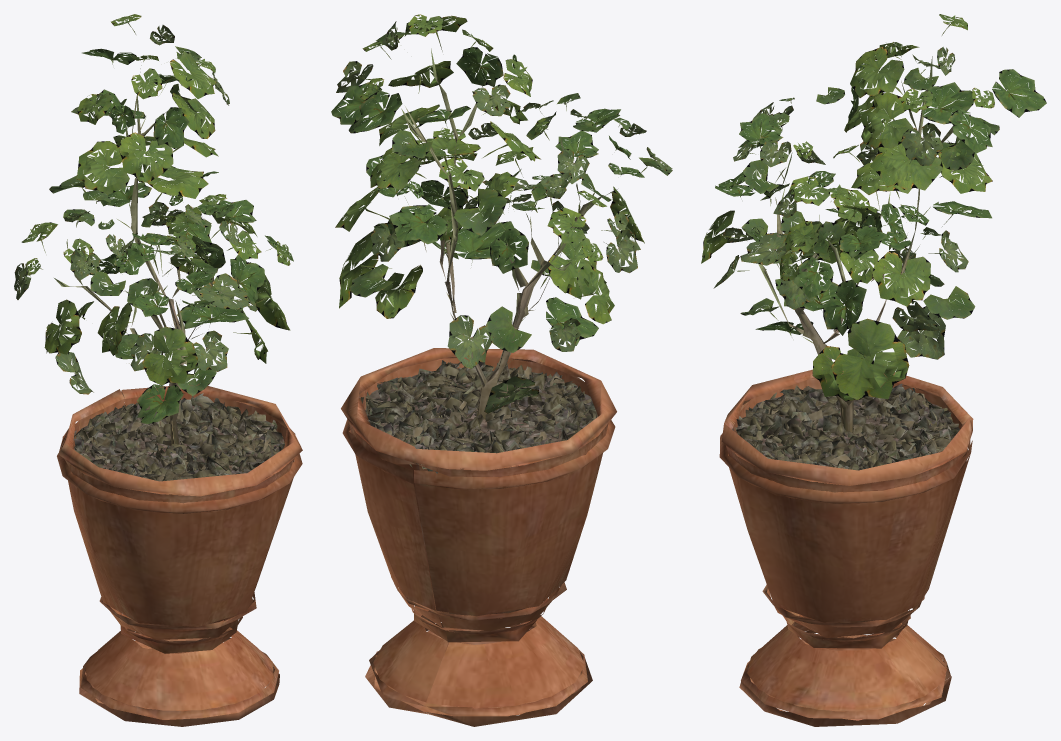
Rendered from ph_potted_plant_01.glb.
3 renders of one model, left to right at view 1: azimuth 30°, elevation 25°; view 2: azimuth 150°, elevation 25°; view 3: azimuth 270°, elevation 25°, orthographic. The views are drawn at different scales.
Visible parts, largest first — view 1: potted_plant_01_stem; view 2: potted_plant_01_stem; view 3: potted_plant_01_stem.
Part boxes in pixels (box(x1,y1,x2,y2)): potted_plant_01_stem: box(14, 14, 302, 726); potted_plant_01_stem: box(331, 14, 672, 726); potted_plant_01_stem: box(701, 14, 1046, 726).
Size of the model in its own units: 0.5854 by 1.34 by 0.6305.
Materials: 2 (2 with a texture image).
